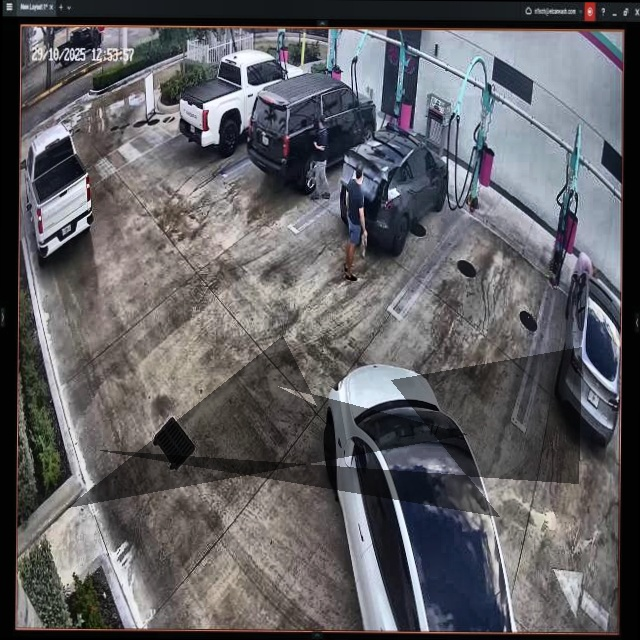Car: (320, 357, 520, 633), (247, 71, 377, 196), (340, 125, 447, 259), (180, 48, 303, 157)
